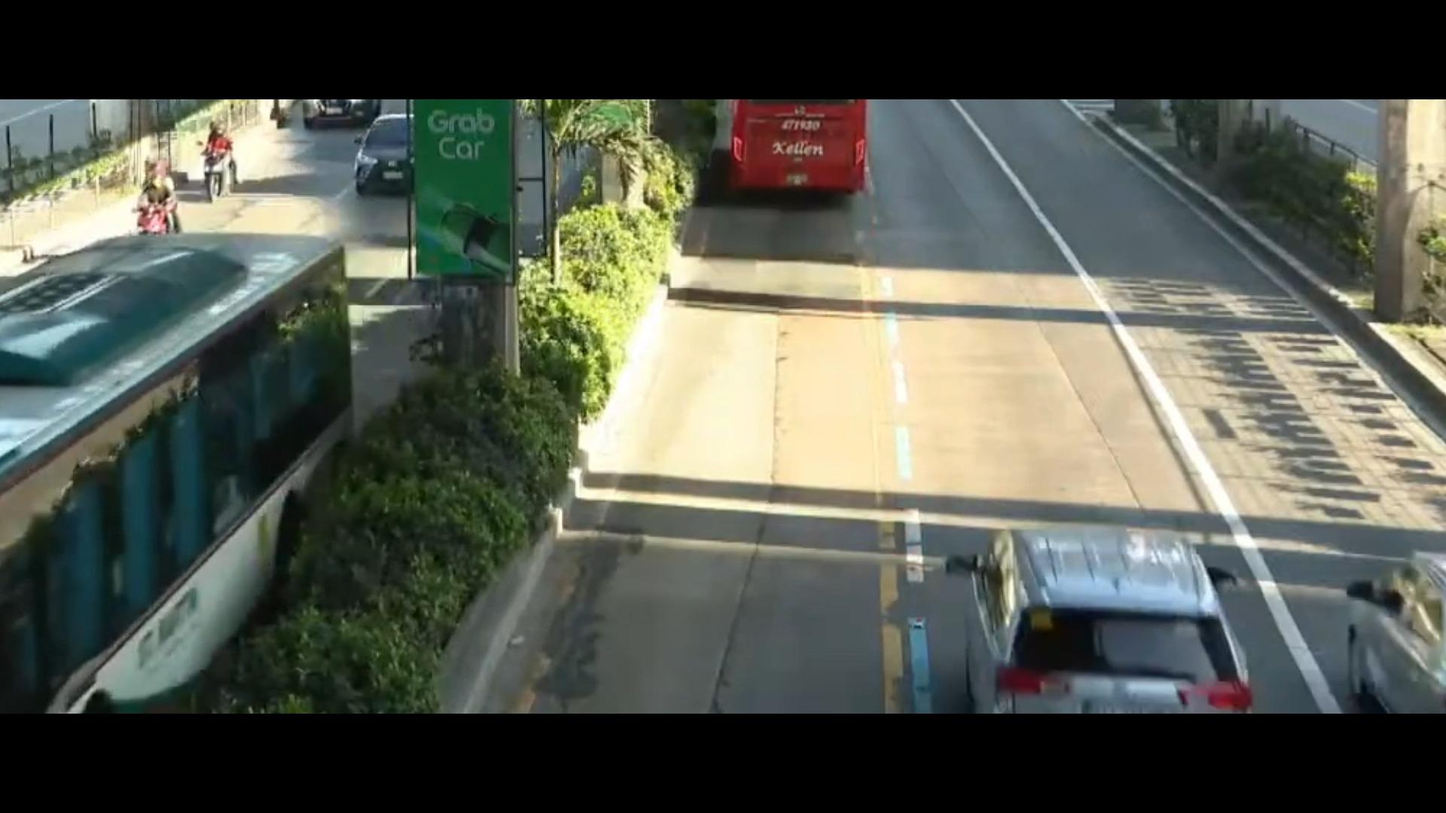Bus: (0, 221, 362, 714), (706, 98, 909, 204)
Motorcycle: (182, 119, 243, 218), (123, 147, 189, 229)
SUV: (897, 505, 1266, 708)
Sedan: (343, 104, 411, 193)
